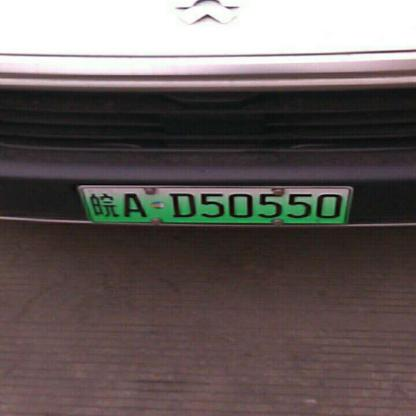lp: (81, 186, 351, 222)
